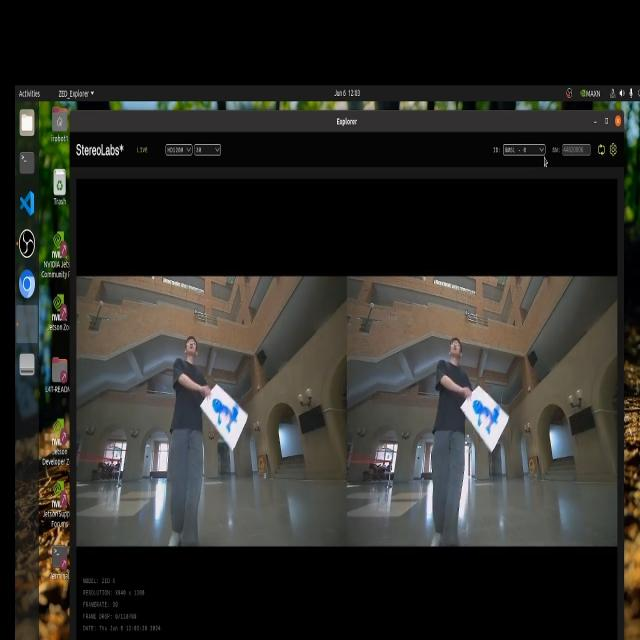blue: (464, 388, 498, 440), (206, 388, 242, 436)
